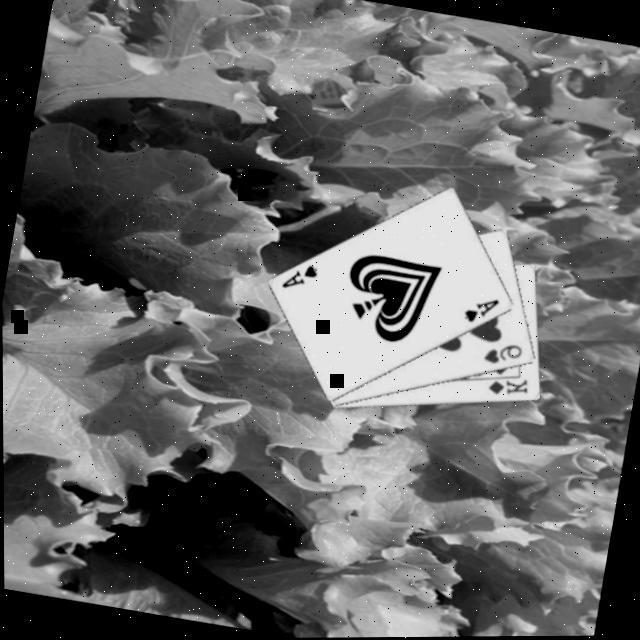9H: (480, 339, 526, 374)
AS: (460, 292, 503, 332), (278, 260, 322, 298)
KD: (483, 373, 532, 405)
